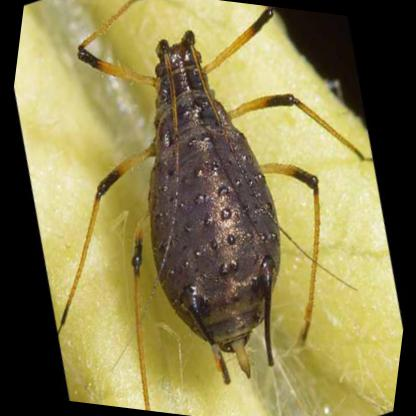uroleucon compositae: (75, 6, 314, 388)
